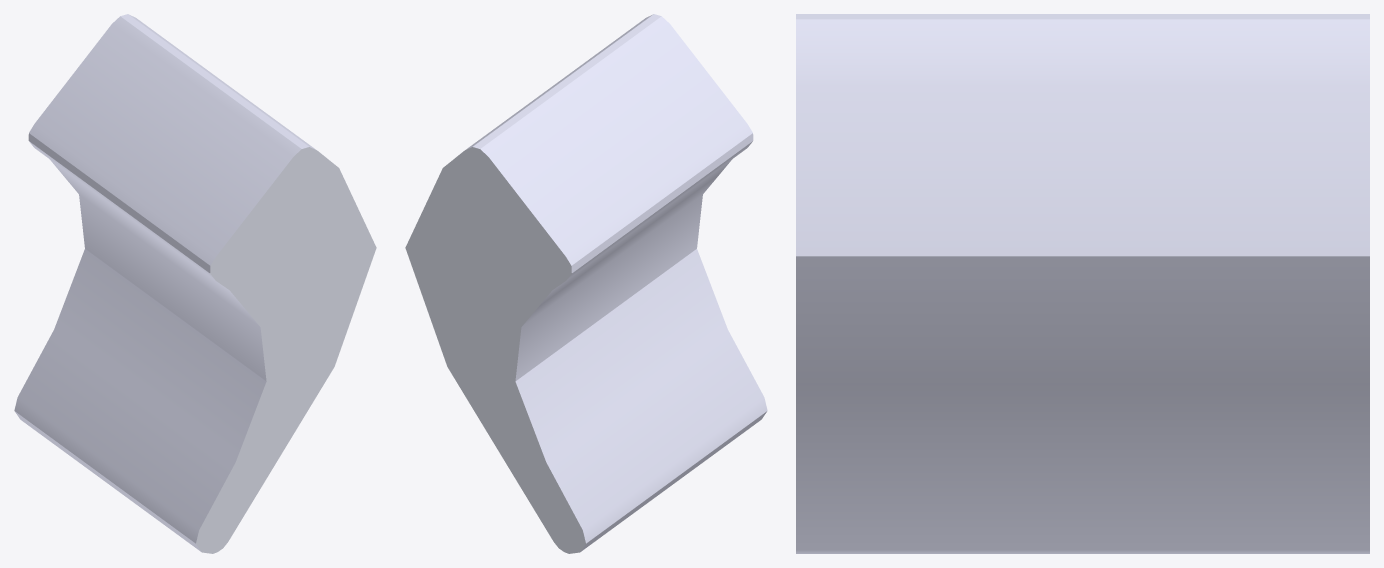
The model's file is symbol,_Soul_Grey.glb.
3 views of the same model, side by side, from view 1: azimuth 30°, elevation 25°; view 2: azimuth 150°, elevation 25°; view 3: azimuth 270°, elevation 25° (orthographic). The views are drawn at different scales.
Parts seen in each view (by area): view 1: ,_Soul_Grey; view 2: ,_Soul_Grey; view 3: ,_Soul_Grey.
Part boxes in pixels (x1=…): ,_Soul_Grey: x1=14, y1=14, x2=376, y2=553; ,_Soul_Grey: x1=405, y1=14, x2=767, y2=553; ,_Soul_Grey: x1=796, y1=14, x2=1369, y2=553.
Size of what is drawn, in the model's own units: 0.0259 by 0.0524 by 0.045.
2 materials, 2 textured.
